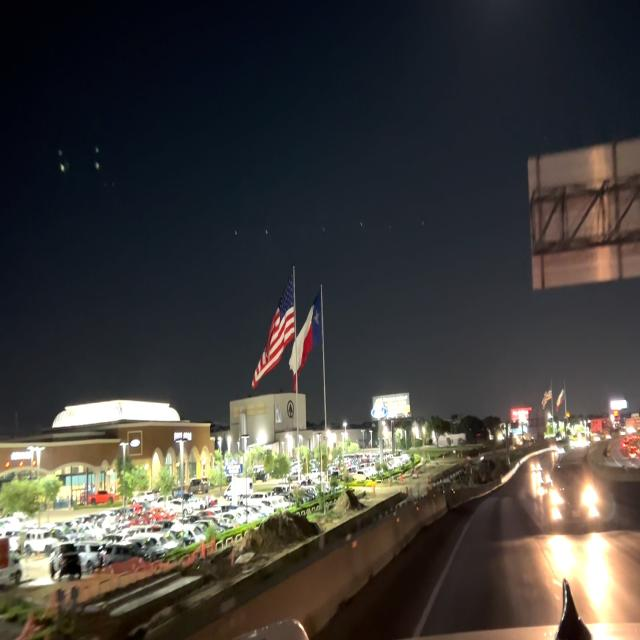back-of-sign: (520, 132, 640, 298)
